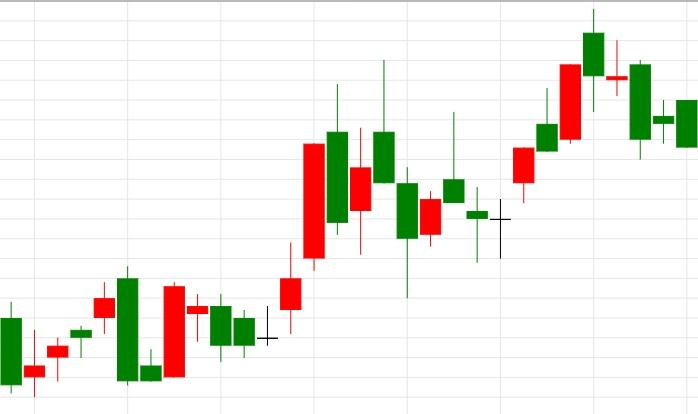bearish_engulfing_fall: (24, 267, 138, 397)
